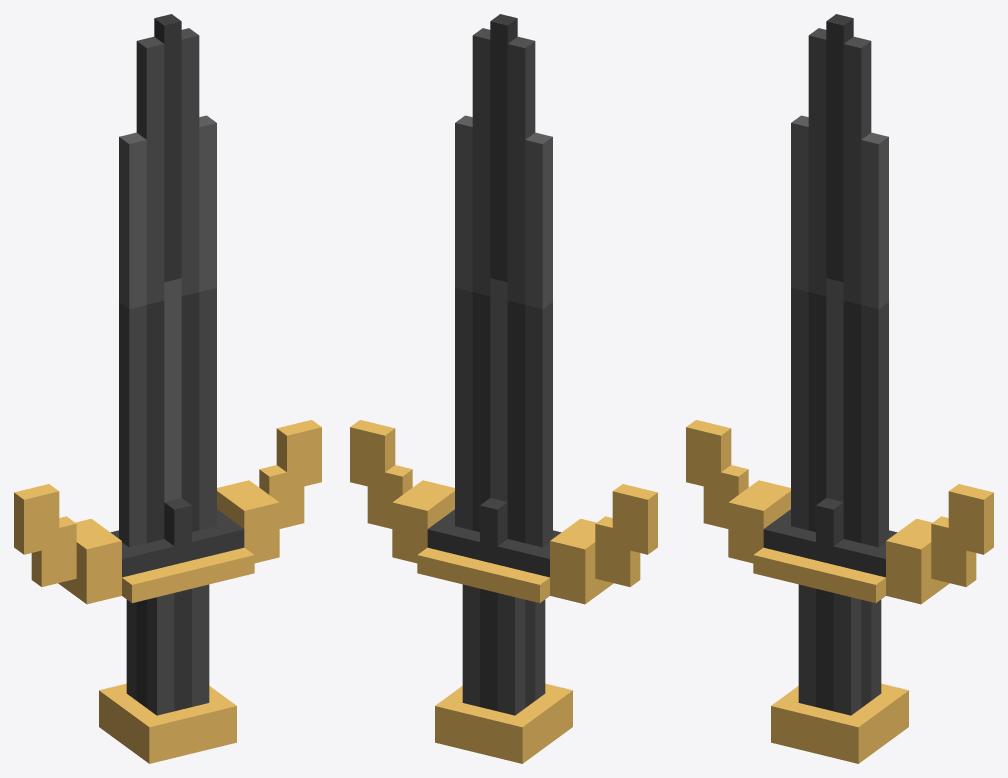
Rendered from IronSword.obj.
3 views of the same model, side by side, from view 1: azimuth 30°, elevation 25°; view 2: azimuth 150°, elevation 25°; view 3: azimuth 330°, elevation 25° (orthographic).
Bounding box in the file's own units: 1.7 × 3.9 × 0.5.
Materials: 1 (1 with a texture image).
